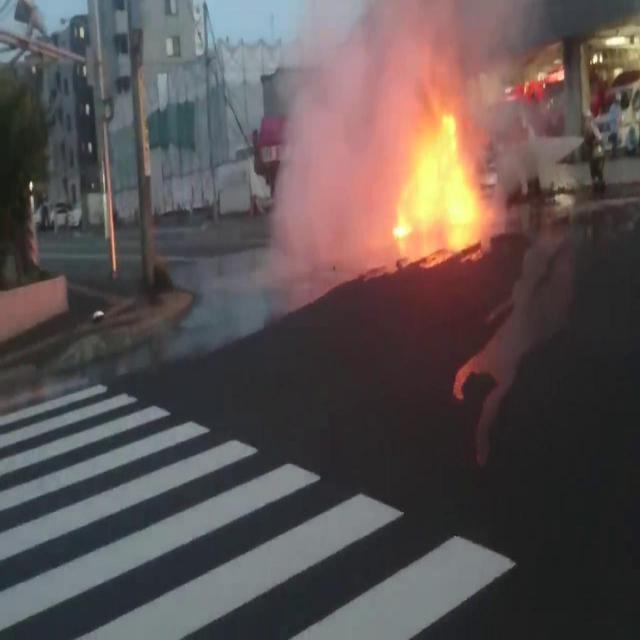Fire: (392, 102, 492, 270)
Smoke: (272, 73, 386, 275), (328, 0, 536, 68)
